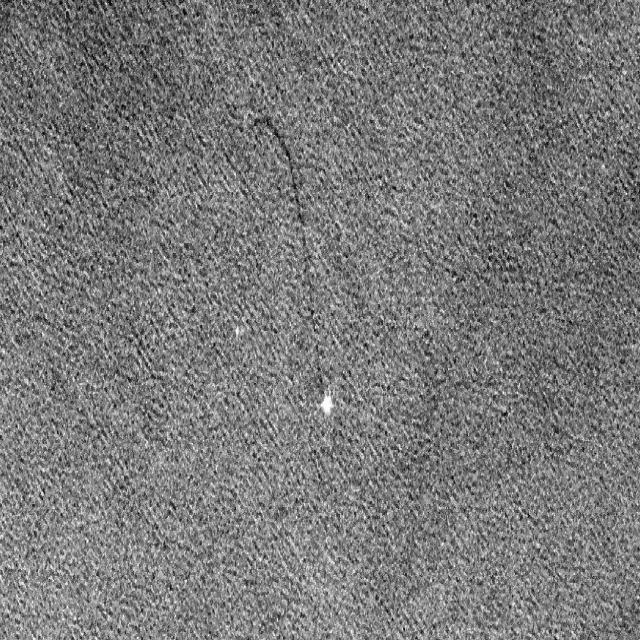oil-spill: (249, 106, 327, 389)
ship: (318, 392, 334, 423)
